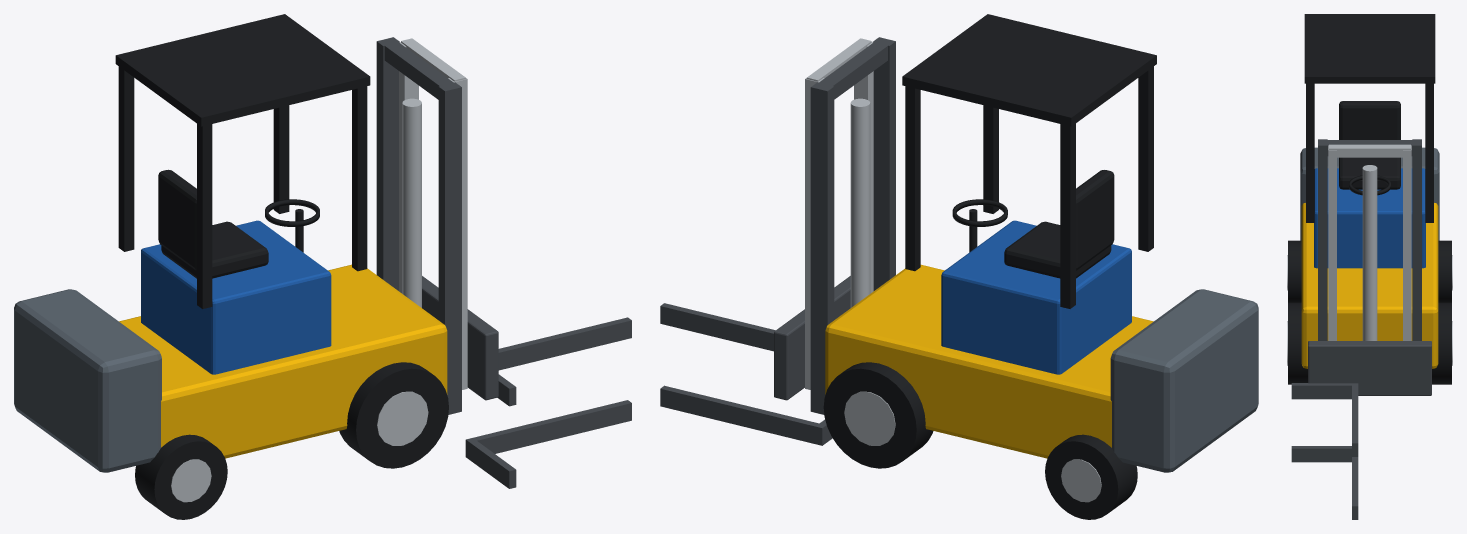
Rendered from forklift.fbx.
3 renders of one model, left to right at view 1: azimuth 30°, elevation 25°; view 2: azimuth 150°, elevation 25°; view 3: azimuth 270°, elevation 25°, orthographic. The views are drawn at different scales.
Visible parts, largest first — view 1: Part_Proteccion, Part_Chasis, Part_Contrapeso, Part_Bateria, Part_Mastil_Exterior, Part_Rueda_DD, Part_Rueda_TD, Part_Asiento, Part_Horquilla_D, Part_Cilindro_Elevacion, Part_Mastil_Interior, Part_Horquilla_I (+2 smaller); view 2: Part_Proteccion, Part_Chasis, Part_Contrapeso, Part_Bateria, Part_Mastil_Exterior, Part_Rueda_DI, Part_Rueda_TI, Part_Asiento, Part_Cilindro_Elevacion, Part_Mastil_Interior, Part_Horquilla_D, Part_Carro (+2 smaller); view 3: Part_Proteccion, Part_Chasis, Part_Carro, Part_Bateria, Part_Mastil_Exterior, Part_Mastil_Interior, Part_Asiento, Part_Cilindro_Elevacion, Part_Horquilla_I, Part_Horquilla_D, Part_Rueda_DI, Part_Rueda_DD (+4 smaller).
Boxes of the visible parts, left/top/right/bottom form: Part_Proteccion: left=115, top=14, right=370, bottom=308; Part_Chasis: left=119, top=264, right=447, bottom=458; Part_Contrapeso: left=14, top=289, right=161, bottom=472; Part_Bateria: left=141, top=220, right=331, bottom=374; Part_Mastil_Exterior: left=376, top=37, right=461, bottom=414; Part_Rueda_DD: left=339, top=362, right=448, bottom=468; Part_Rueda_TD: left=135, top=434, right=227, bottom=519; Part_Asiento: left=158, top=169, right=268, bottom=278; Part_Horquilla_D: left=465, top=400, right=631, bottom=488; Part_Cilindro_Elevacion: left=402, top=98, right=421, bottom=307; Part_Mastil_Interior: left=399, top=38, right=467, bottom=389; Part_Horquilla_I: left=497, top=317, right=631, bottom=406; Part_Proteccion: left=902, top=14, right=1156, bottom=308; Part_Chasis: left=825, top=264, right=1153, bottom=458; Part_Contrapeso: left=1110, top=289, right=1258, bottom=472; Part_Bateria: left=941, top=220, right=1131, bottom=374; Part_Mastil_Exterior: left=810, top=37, right=895, bottom=414; Part_Rueda_DI: left=823, top=362, right=933, bottom=468; Part_Rueda_TI: left=1045, top=434, right=1137, bottom=519; Part_Asiento: left=1004, top=170, right=1114, bottom=278; Part_Cilindro_Elevacion: left=850, top=98, right=870, bottom=307; Part_Mastil_Interior: left=805, top=38, right=873, bottom=389; Part_Horquilla_D: left=660, top=385, right=832, bottom=445; Part_Carro: left=774, top=276, right=850, bottom=400; Part_Proteccion: left=1304, top=14, right=1435, bottom=222; Part_Chasis: left=1301, top=203, right=1438, bottom=368; Part_Carro: left=1308, top=341, right=1431, bottom=395; Part_Bateria: left=1314, top=168, right=1425, bottom=268; Part_Mastil_Exterior: left=1318, top=139, right=1421, bottom=340; Part_Mastil_Interior: left=1328, top=144, right=1411, bottom=340; Part_Asiento: left=1339, top=101, right=1400, bottom=189; Part_Cilindro_Elevacion: left=1362, top=165, right=1377, bottom=340; Part_Horquilla_I: left=1291, top=383, right=1358, bottom=456; Part_Horquilla_D: left=1291, top=446, right=1358, bottom=519; Part_Rueda_DI: left=1432, top=302, right=1452, bottom=384; Part_Rueda_DD: left=1287, top=302, right=1307, bottom=384.
Size of the model in its own units: 4 by 2.97 by 1.33.
